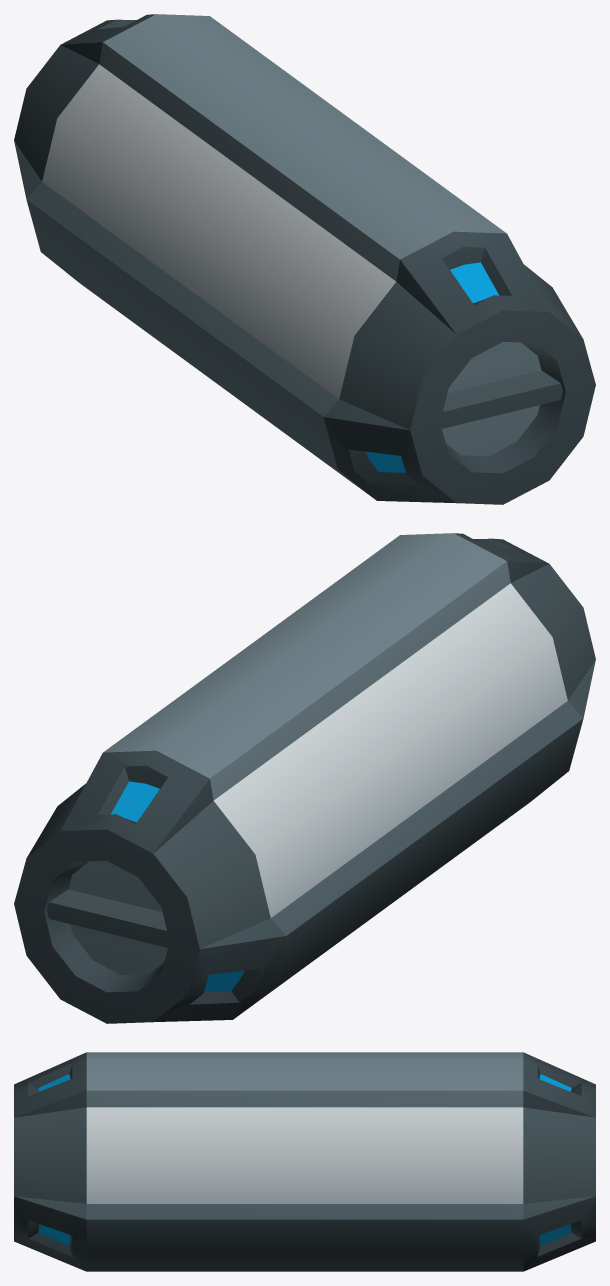
File: Baloon_005.fbx
3 views of the same model, one above another, from view 1: azimuth 30°, elevation 25°; view 2: azimuth 150°, elevation 25°; view 3: azimuth 270°, elevation 25° (orthographic). The views are drawn at different scales.
Visible parts, largest first — view 1: Baloon_005; view 2: Baloon_005; view 3: Baloon_005.
Boxes of the visible parts, left/top/right/bottom form: Baloon_005: left=14, top=14, right=595, bottom=504; Baloon_005: left=14, top=533, right=595, bottom=1023; Baloon_005: left=14, top=1052, right=595, bottom=1271.
Bounding box in the file's own units: 45.46 × 120 × 43.35.
